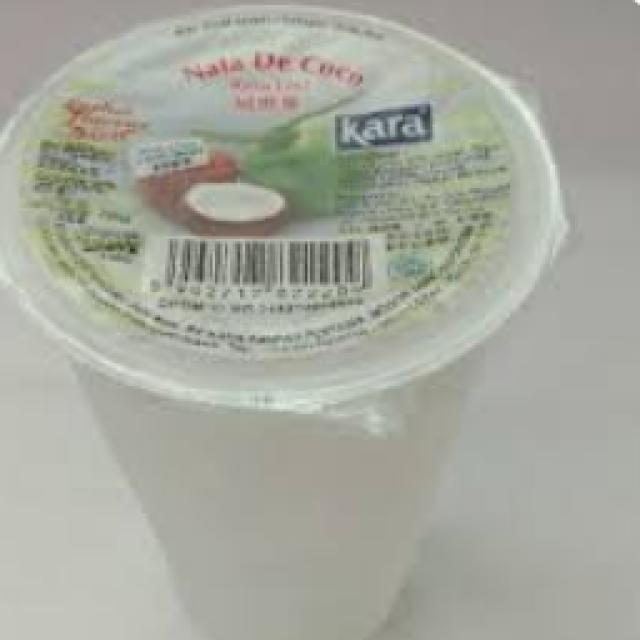GelasPlastik: (2, 5, 566, 640)
